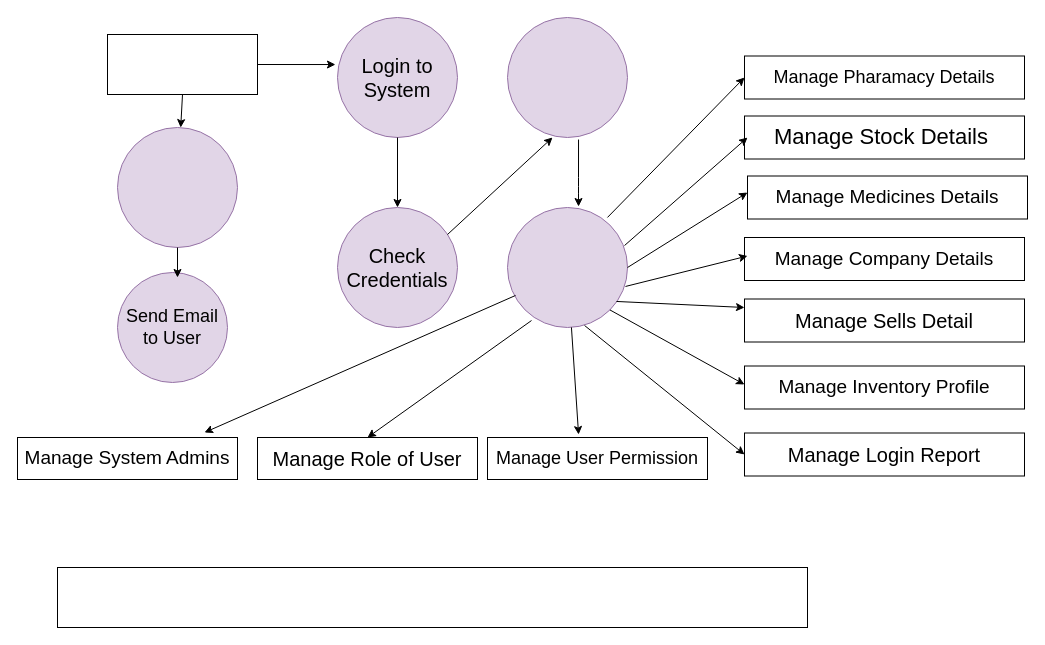
Image size: 1045x645. Some labels were removed from this diagram. Here are the shapes that lost their labels. From the top down, the centre of each, then its label:
point (182, 64): Admin
point (567, 77): Check Roles of Access
point (177, 187): Forget Password
point (567, 267): Manage Module
point (432, 597): SECOND LEVEL DFD- Pharmacy Management System
